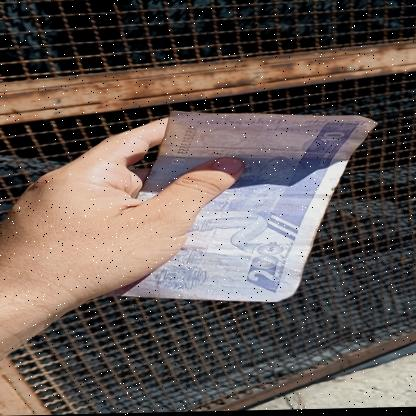ten-back-vef: (109, 107, 379, 307)
